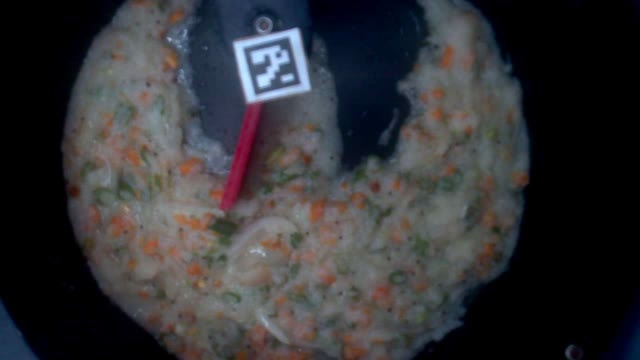stirrer: (216, 1, 320, 103)
